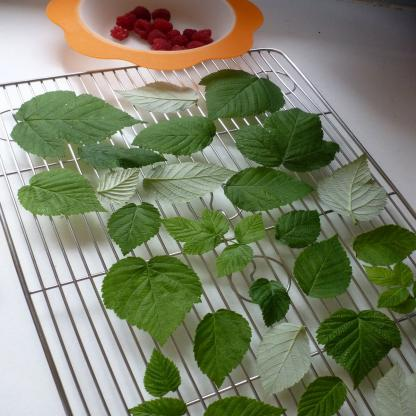Raspberry leaf: (97, 258, 206, 348), (6, 90, 142, 158), (316, 311, 406, 388), (232, 108, 344, 161), (17, 166, 111, 221), (197, 65, 286, 123), (318, 147, 385, 220), (258, 317, 312, 400), (140, 160, 240, 204), (296, 231, 361, 298), (194, 309, 247, 389), (220, 163, 314, 206), (100, 199, 163, 257), (135, 115, 215, 153), (249, 276, 292, 323)
